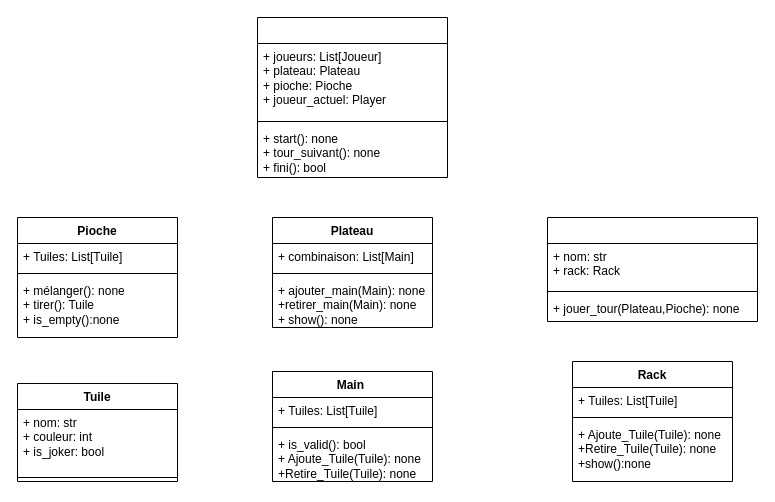
Image size: 775x502. Some labels were removed from this diagram. Each missing label, with the box of its shape:
Jeu: (256, 16, 448, 178)
Joueur: (546, 216, 758, 322)
